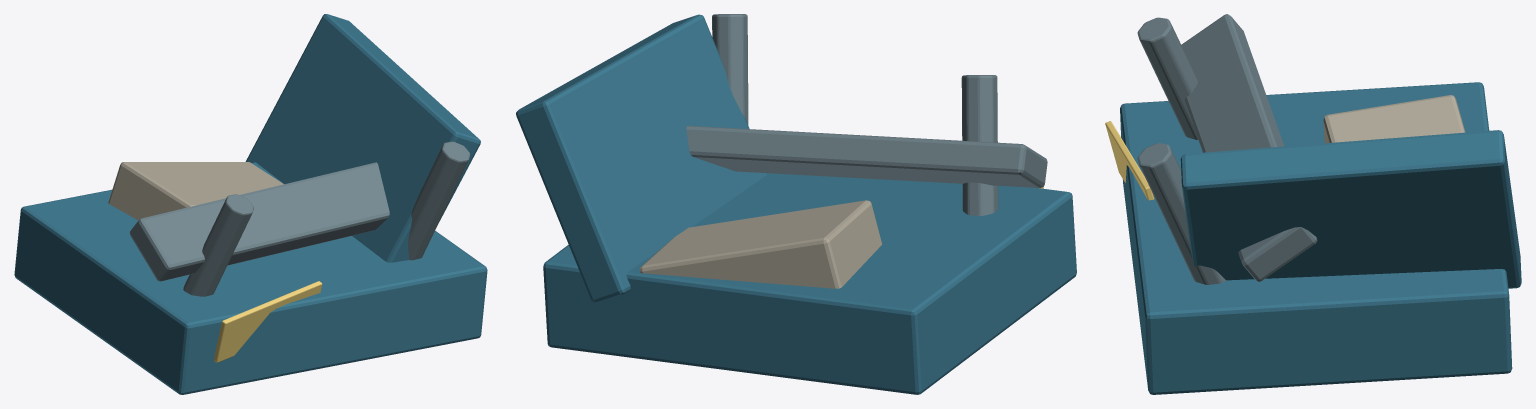
File: cargo_crate_d3.glb
The picture shows the model from 3 angles, left to right: view 1: azimuth 30°, elevation 25°; view 2: azimuth 150°, elevation 25°; view 3: azimuth 270°, elevation 25°; orthographic projection. The views are drawn at different scales.
Visible parts, largest first — view 1: Crushed crate base.002, Bent side panel.002, Collapsed lid.002, Spilled contents.002, Bent original corner post.005, Bent original corner post.004, Detached cargo placard.002; view 2: Crushed crate base.002, Bent side panel.002, Collapsed lid.002, Spilled contents.002, Bent original corner post.004, Bent original corner post.005; view 3: Crushed crate base.002, Bent side panel.002, Collapsed lid.002, Spilled contents.002, Bent original corner post.005, Bent original corner post.004, Detached cargo placard.002.
Part boxes in pixels (x1,y1,x2,y2): Crushed crate base.002: (14,162,487,394); Bent side panel.002: (245,14,480,262); Collapsed lid.002: (130,162,389,281); Spilled contents.002: (108,162,283,220); Bent original corner post.005: (408,141,469,260); Bent original corner post.004: (183,194,253,296); Detached cargo placard.002: (214,281,322,362); Crushed crate base.002: (543,173,1076,394); Bent side panel.002: (516,14,767,302); Collapsed lid.002: (686,126,1047,187); Spilled contents.002: (640,200,881,288); Bent original corner post.004: (961,75,998,215); Bent original corner post.005: (712,14,748,124); Crushed crate base.002: (1120,82,1512,394); Bent side panel.002: (1180,130,1521,288); Collapsed lid.002: (1181,14,1317,281); Spilled contents.002: (1323,95,1465,143); Bent original corner post.005: (1137,143,1225,284); Bent original corner post.004: (1137,17,1198,139); Detached cargo placard.002: (1105,121,1154,200).
Bounding box in the file's own units: 1.75 × 1.06 × 1.54.
